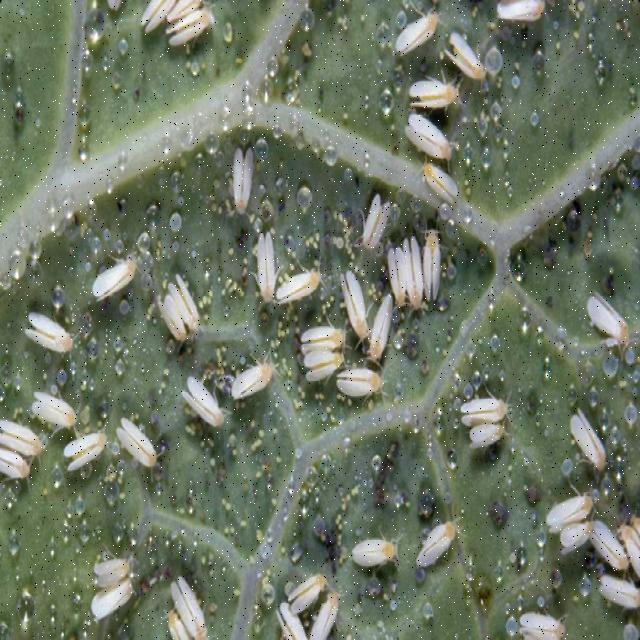Whiteflies: (380, 219, 454, 328), (80, 240, 156, 324), (213, 129, 276, 224), (146, 263, 205, 356), (582, 268, 632, 363), (341, 522, 409, 591), (108, 405, 171, 475), (520, 473, 603, 525), (268, 240, 325, 313), (250, 198, 282, 326), (30, 385, 95, 446), (442, 26, 504, 89), (400, 112, 464, 173), (401, 77, 469, 133), (411, 510, 466, 577), (567, 399, 612, 480), (52, 428, 118, 483), (177, 375, 231, 442), (499, 591, 572, 640), (225, 351, 284, 411), (381, 12, 453, 60), (580, 501, 626, 575), (334, 267, 375, 347), (16, 309, 83, 357), (419, 152, 467, 218), (291, 296, 348, 351), (168, 563, 214, 630), (1, 421, 60, 473), (450, 381, 517, 426), (304, 334, 352, 396), (80, 580, 147, 623), (284, 558, 332, 616), (348, 182, 393, 243), (556, 512, 597, 575), (367, 281, 398, 364), (335, 367, 393, 408), (304, 590, 351, 640), (581, 572, 639, 611), (272, 593, 319, 640), (91, 546, 131, 600), (1, 445, 40, 500), (163, 13, 221, 49), (474, 412, 509, 460), (152, 606, 199, 640), (613, 519, 640, 574)
